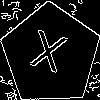X: (25, 29, 68, 83)
